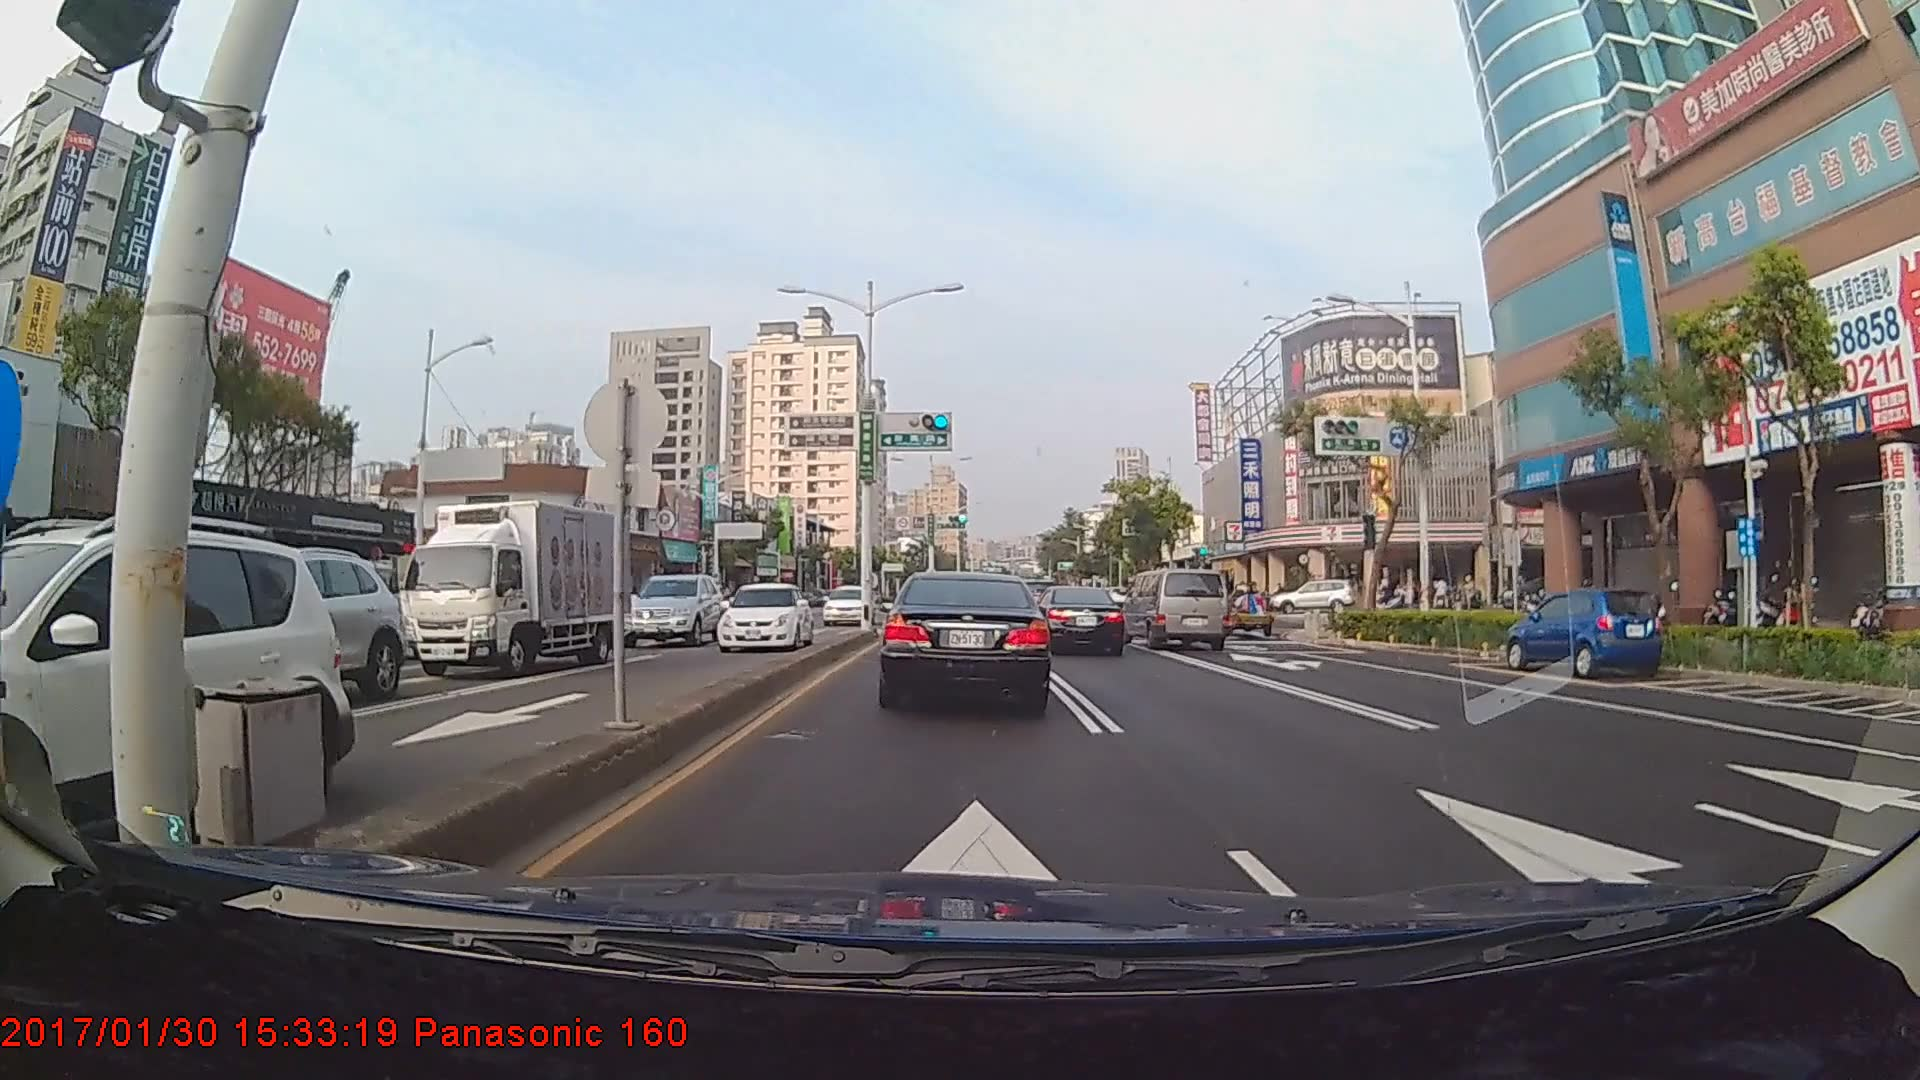vehicle: (0, 526, 338, 870), (390, 493, 632, 678), (156, 542, 400, 702), (881, 567, 1052, 711), (1507, 585, 1662, 679), (607, 567, 717, 647), (1124, 567, 1228, 651), (713, 578, 814, 651), (1034, 585, 1127, 654), (1269, 580, 1354, 615), (818, 582, 869, 625)
